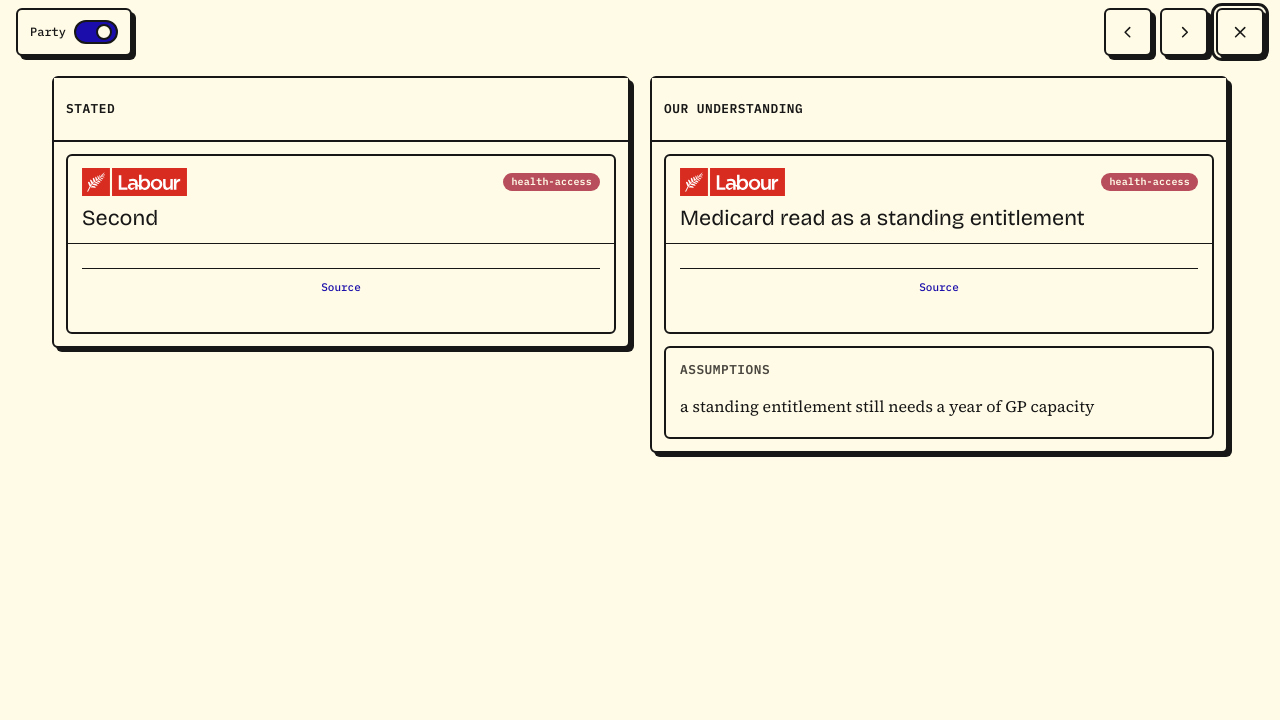
Test: CardInspectOverlay › cycles with the arrows and the left and right keys
The image size is (1280, 720).
Click the button named "Next policy" at (1184, 32), box [1160, 8, 1208, 56]
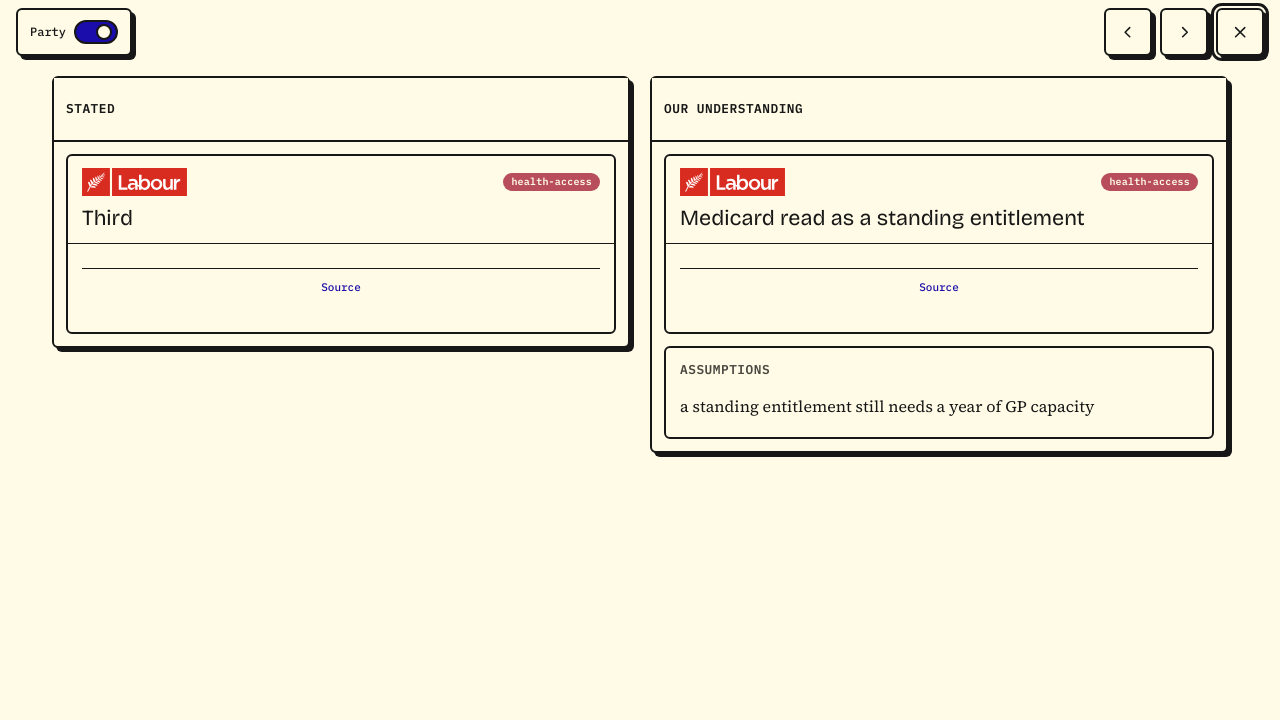
Check: the dialog "Third" is shown, box [32, 68, 1248, 485]
Click the button named "Previous policy" at (1128, 32), box [1104, 8, 1152, 56]
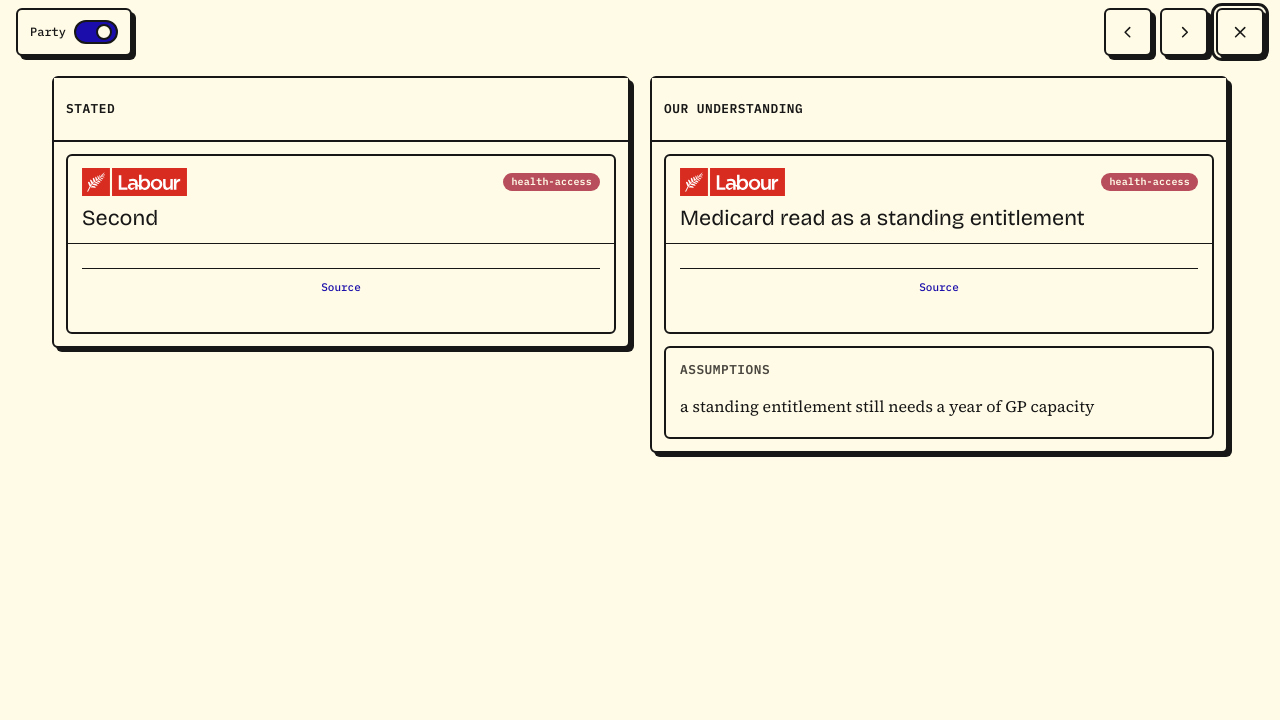
Check: the dialog "Second" is shown, box [32, 68, 1248, 485]
Press ArrowRight
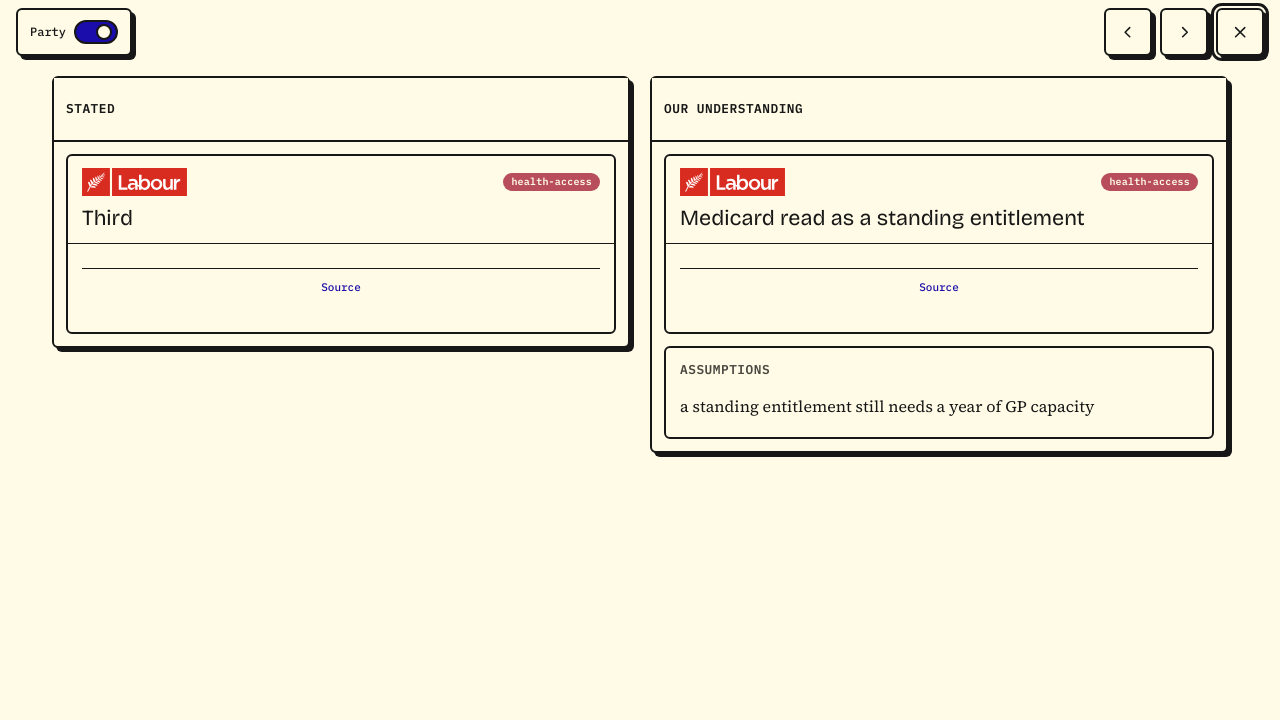
Check: the dialog "Third" is shown, box [32, 68, 1248, 485]
Press ArrowLeft
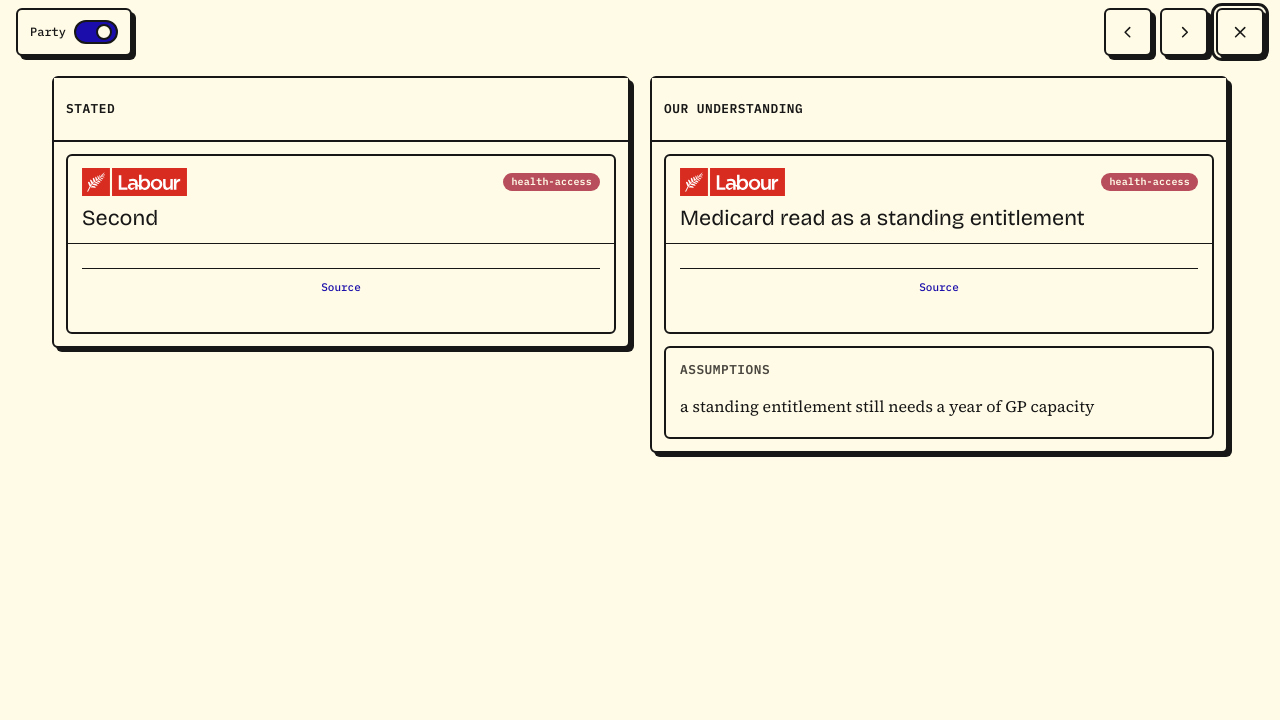
Check: the dialog "Second" is shown, box [32, 68, 1248, 485]
